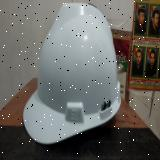Helmet: (23, 2, 122, 144)
